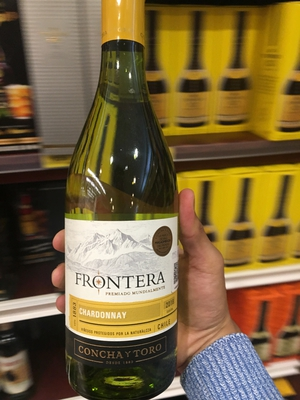frontera chardonnay: (53, 3, 210, 389)
